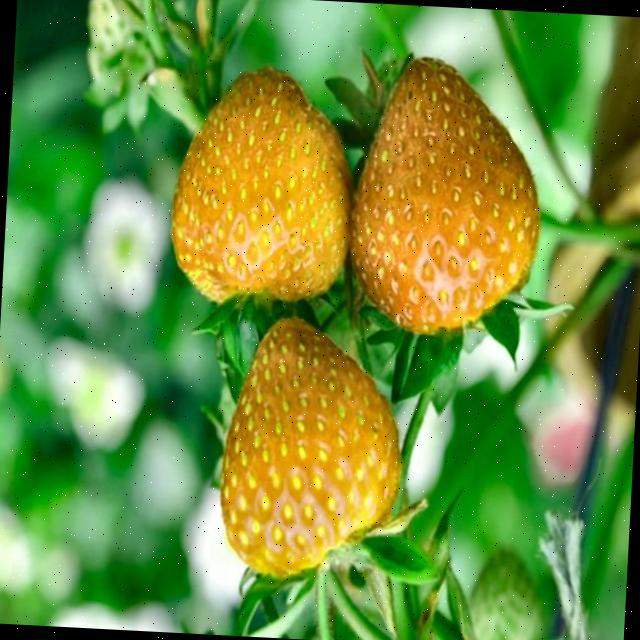strawberry: (350, 58, 538, 333), (219, 318, 400, 576), (170, 67, 350, 302)
